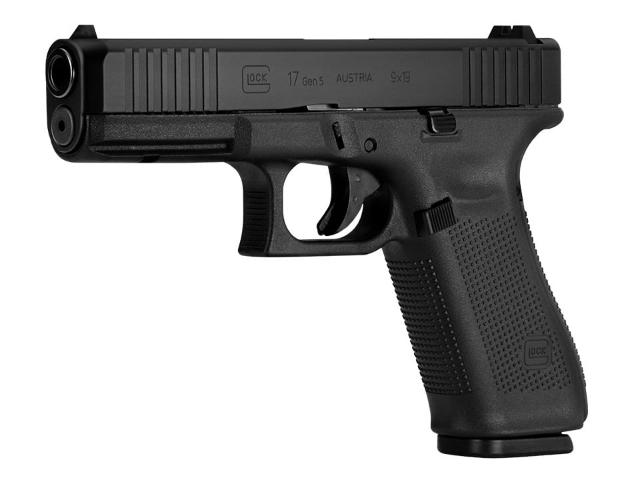handgun: (34, 19, 594, 465)
